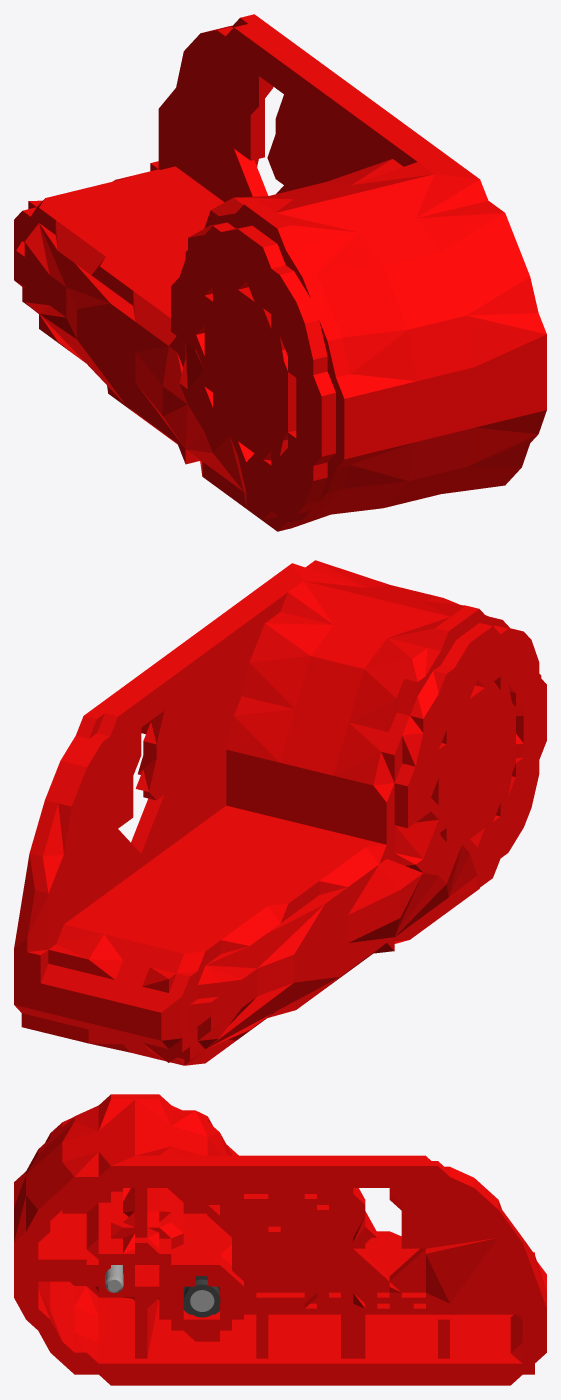
File: schmersal-lever.glb
3 renders of one model, top to bottom at view 1: azimuth 30°, elevation 25°; view 2: azimuth 150°, elevation 25°; view 3: azimuth 270°, elevation 25°, orthographic. The views are drawn at different scales.
Visible parts, largest first — view 1: lever_OEM_color_0; view 2: lever_OEM_color_0; view 3: lever_OEM_color_0, lever_OEM_color_1, lever_OEM_color_2.
Part boxes in pixels (x1,y1,x2,y2): lever_OEM_color_0: (14,14,546,531); lever_OEM_color_0: (14,560,546,1065); lever_OEM_color_0: (14,1094,546,1385); lever_OEM_color_1: (105,1265,214,1311); lever_OEM_color_2: (183,1276,220,1317).
Size of the model in its own units: 0.0169 by 0.02 by 0.044.
